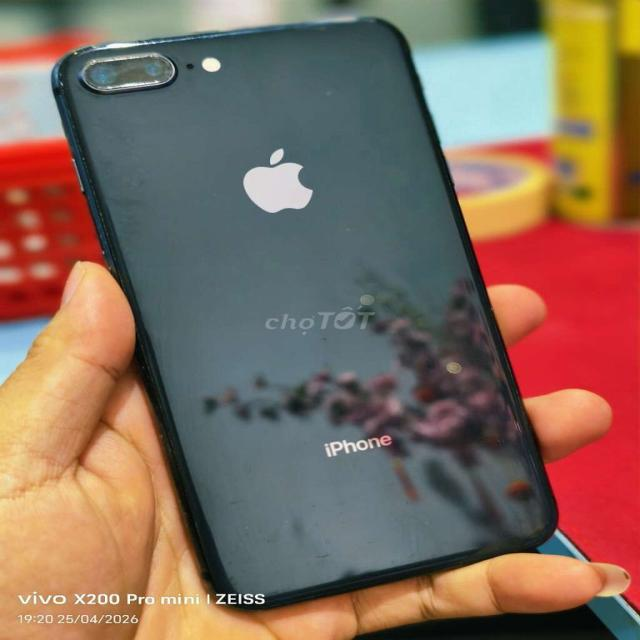gen_7_8: (41, 8, 566, 618)
scratch: (54, 41, 189, 98), (295, 7, 382, 27), (184, 20, 234, 40)
